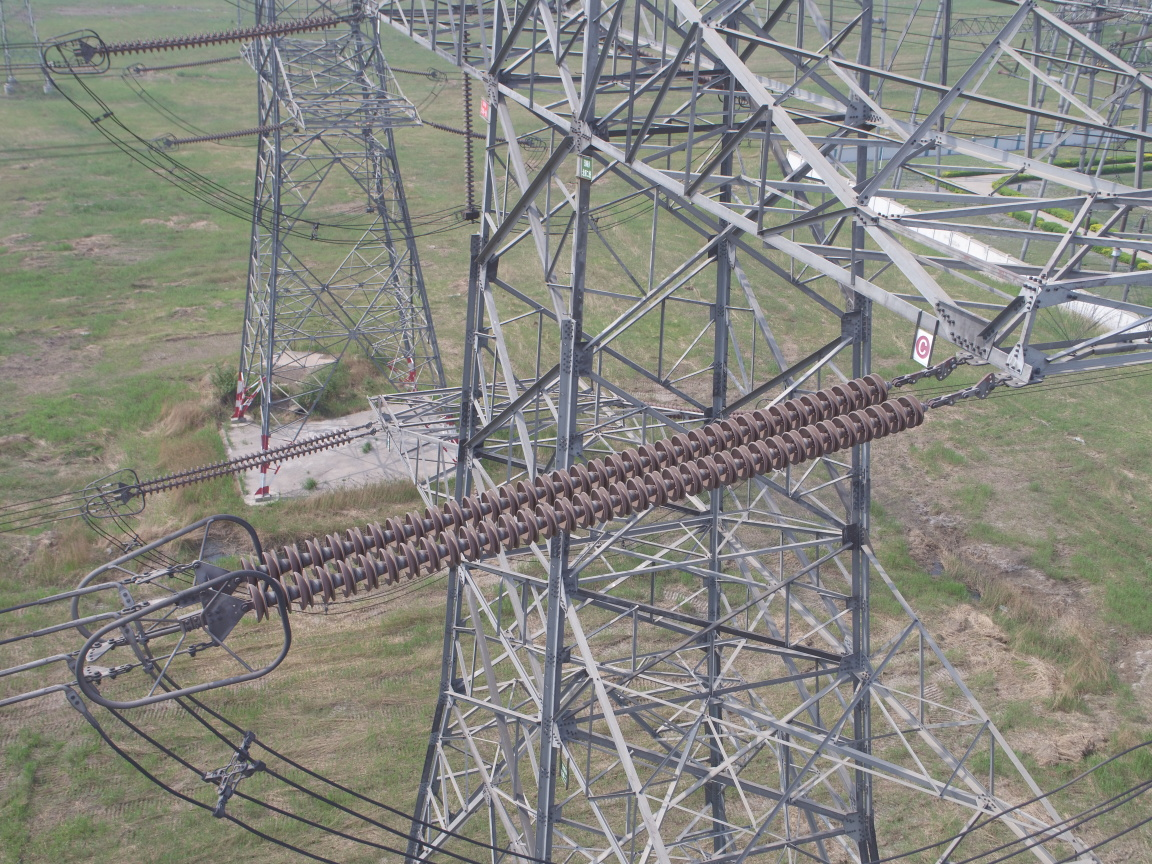insulator: (223, 369, 957, 631), (128, 427, 360, 499), (100, 15, 340, 55)
